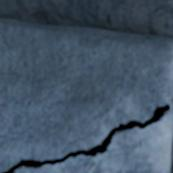brick: (0, 19, 172, 172)
crack: (2, 104, 170, 172)
